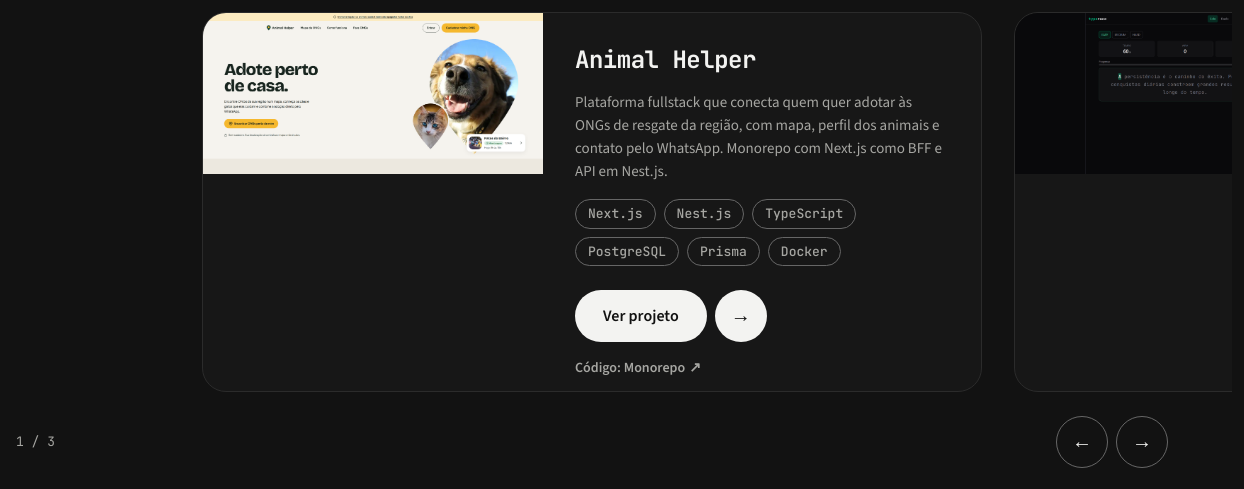
Test case: <ProjectCarousel /> › motion (below 1024px) › gives the track no Motion x so native scroll-snap drives it (MOV-26)
Click the button named "Próximo projeto" at (1142, 442), box x1=1116 y1=416 x2=1168 y2=468
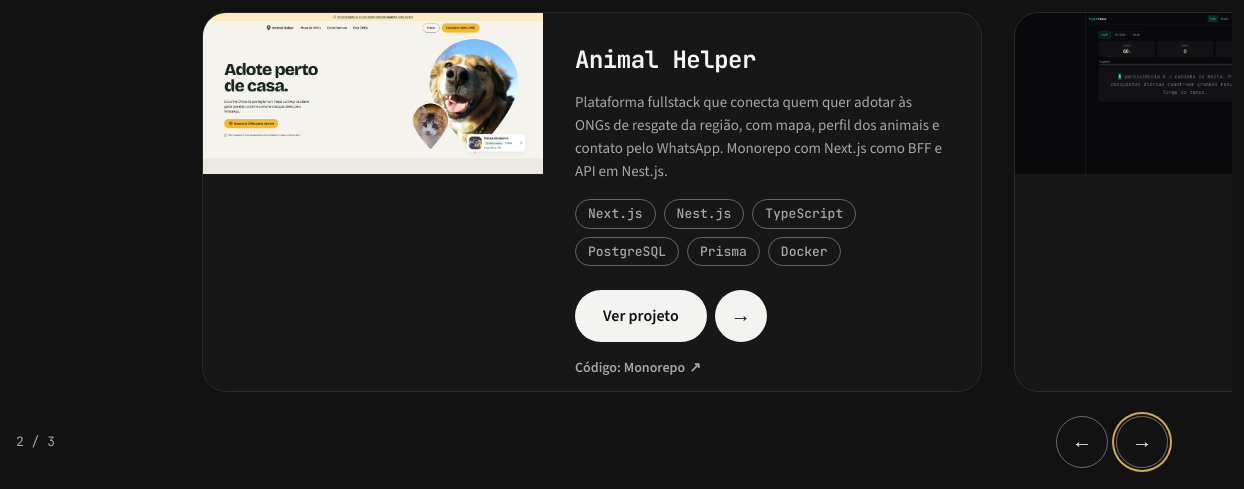
Check: the text "2 / 3" is shown, box x1=16 y1=432 x2=55 y2=452
